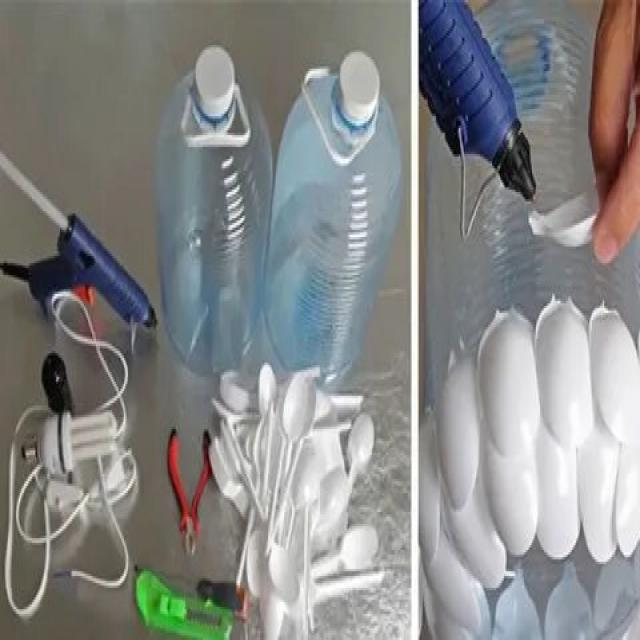blue: (276, 74, 402, 378), (154, 76, 274, 368)
